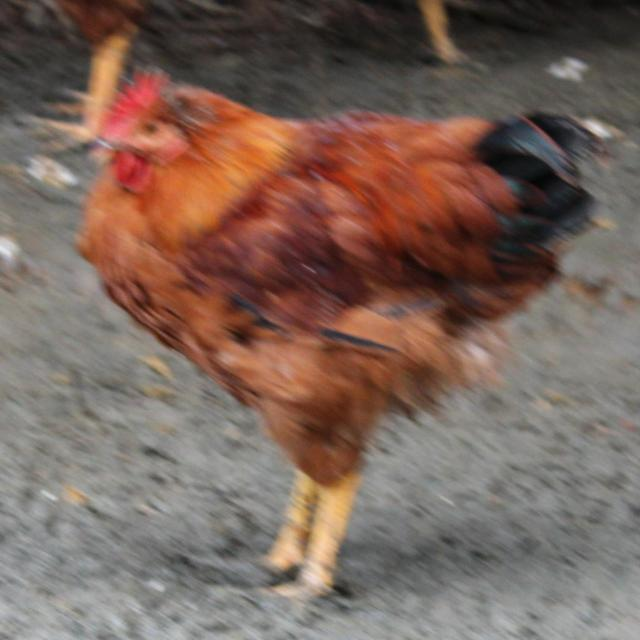cook: (43, 67, 603, 622)
